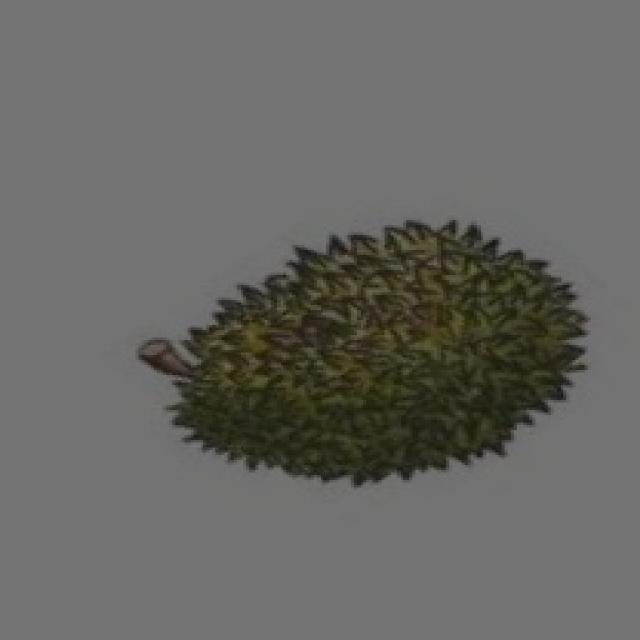fruit: (255, 195, 612, 525)
